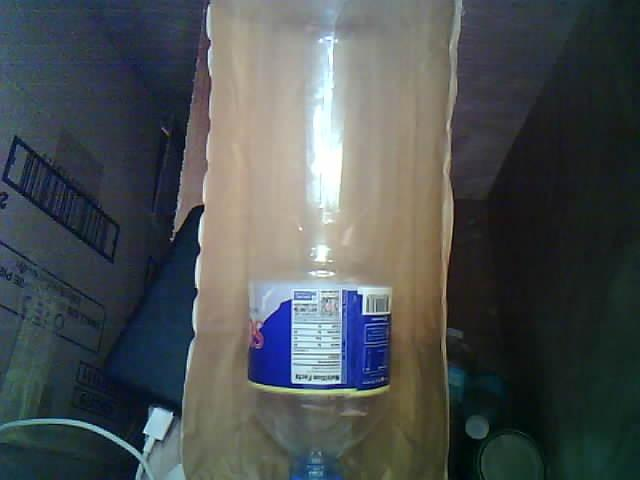large_bottle: (245, 0, 401, 480)
